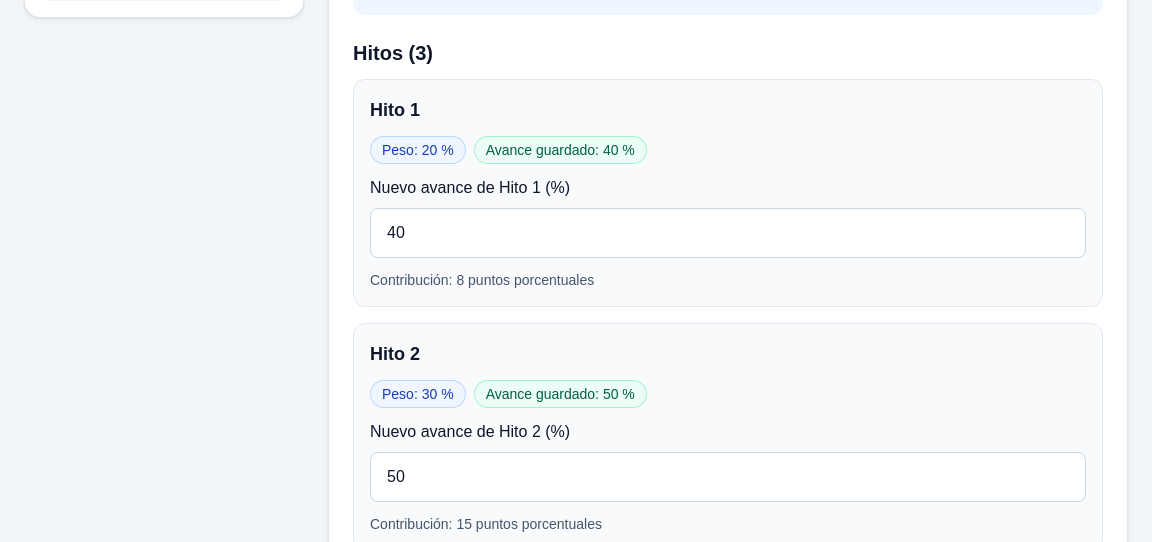
it: recarga una revisión finalizada por otro usuario como lectura
(page scrolled)
Replace the text in the field labelled "Nuevo avance de Hito 1 (%)" with "60". click: (728, 233)
box: [370,208,1086,258]
(page scrolled)
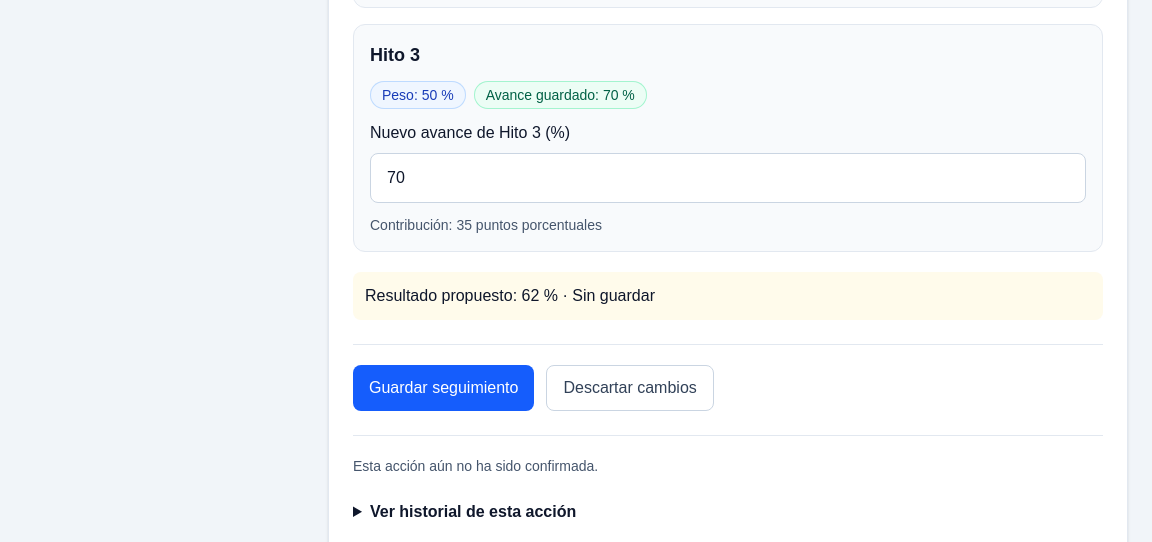
Click the button "Guardar seguimiento". click: (444, 388)
box: [353,365,534,411]
(page scrolled)
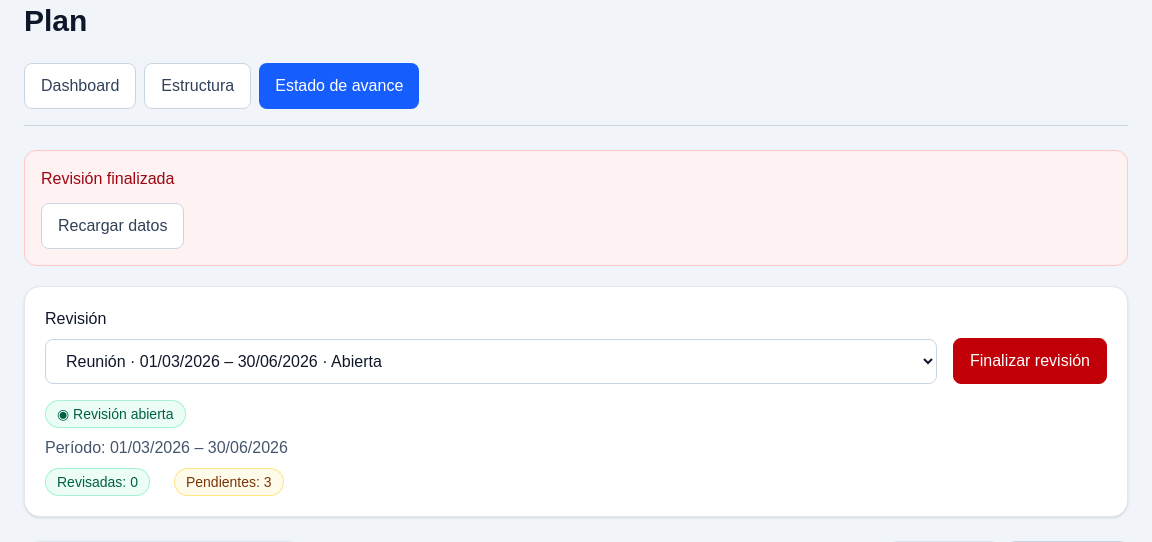
Click the button "Recargar datos". click: (113, 226)
box: [41,203,184,249]
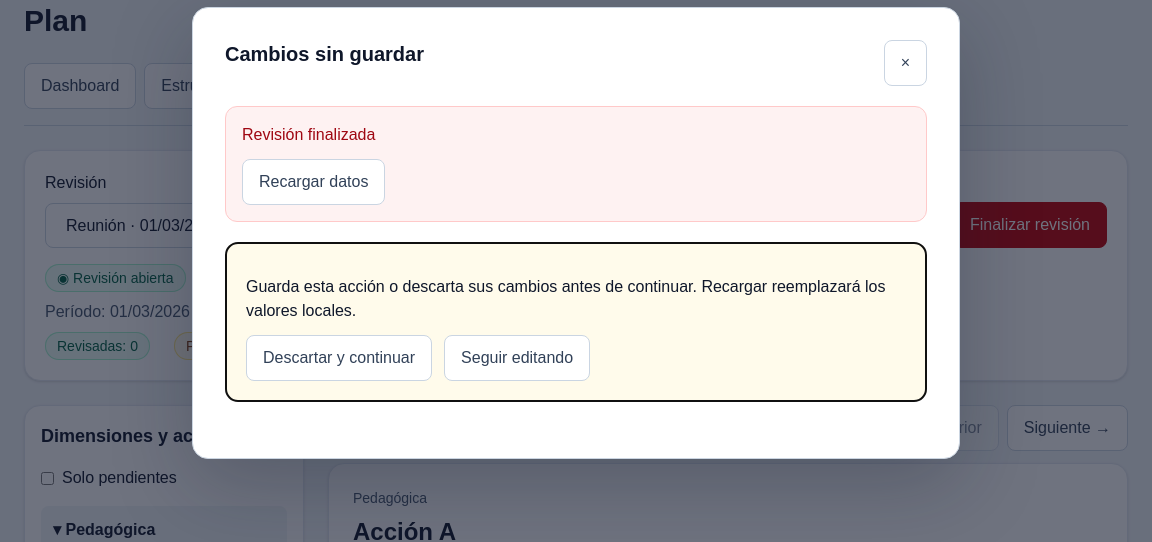
Click the button "Descartar y continuar". click: (339, 358)
box: [246,335,432,381]
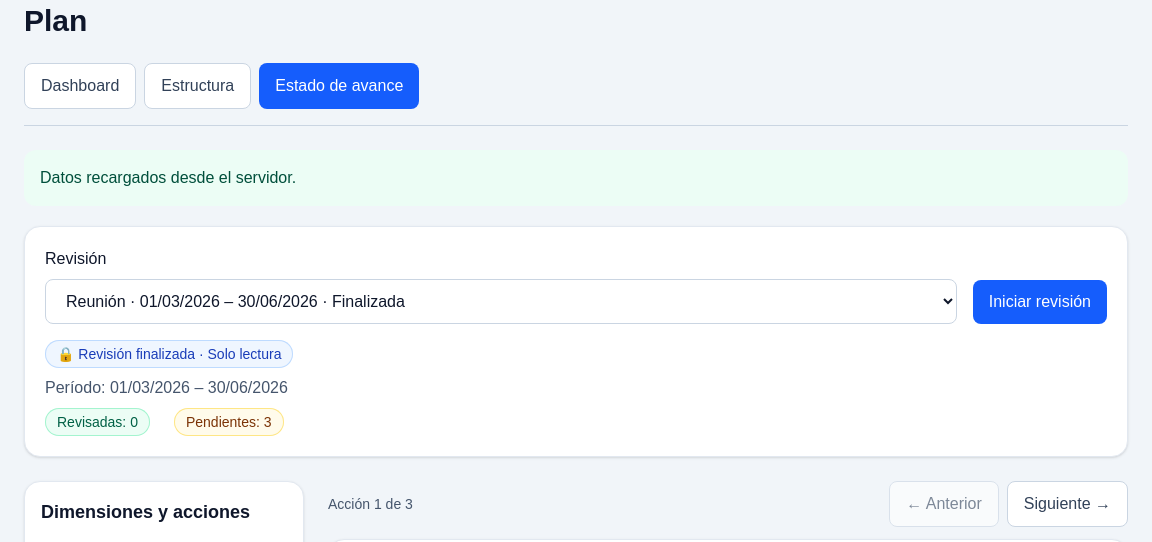
Result: no fields labelled "Nuevo avance" are shown
